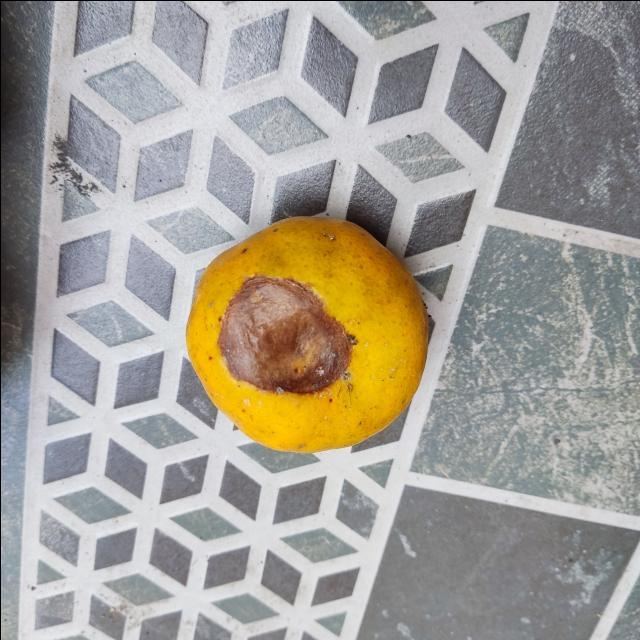agrume: (184, 213, 432, 455)
